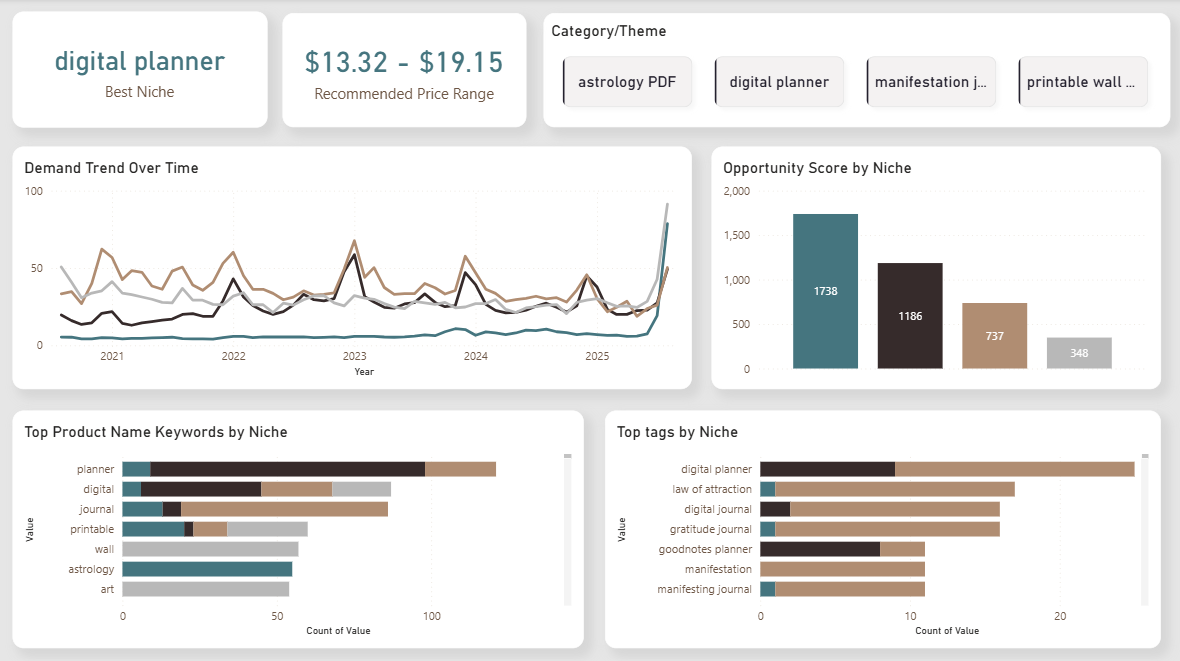

The page's visual inventory and layout, read from the dashboard file:
{"tool":"powerbi","page":{"name":"Final dashboard","canvas":[1280,720],"ordinal":0},"visuals":[{"type":"advancedSlicerVisual","fields":{"Values":["Main Etsy Data Table.Category/Theme"]},"box":[591.7,16.7,676.7,123.3],"z":0},{"type":"card","title":"Asrology PDF","fields":{"Values":["Google Trends Data Table.Top Opportunity Niche"]},"box":[18.3,15,275,125],"z":1000},{"type":"columnChart","title":"Opportunity Score by Niche","fields":{"Category":["Main Etsy Data Table.Category/Theme"],"Y":["Google Trends Data Table.Opportunity Score"],"Series":["Main Etsy Data Table.Category/Theme"]},"box":[771.7,160,485,261.7],"z":2000},{"type":"lineChart","title":"Demand Trend Over Time","fields":{"Y":["Avg(Google Trends Data Table.Interest over Time)"],"Series":["Google Trends Data Table.Search Term"],"Category":["Google Trends Data Table.Week.Variation.Date Hierarchy.Year","Google Trends Data Table.Week.Variation.Date Hierarchy.Month"]},"box":[18.3,160,733.3,261.7],"z":3000},{"type":"barChart","title":"Top Product Name Keywords by Niche","fields":{"Category":["Product name keywords table.Value"],"Y":["CountNonNull(Product name keywords table.Value)"],"Series":["Product name keywords table.Category/Theme"]},"box":[18.3,445,616.7,256.7],"z":4000},{"type":"barChart","title":"Top tags by Niche","fields":{"Y":["CountNonNull(tags table.Value)"],"Category":["tags table.Value"],"Series":["tags table.Category/Theme"]},"box":[656.7,445,600,256.7],"z":5000},{"type":"card","title":"Asrology PDF","fields":{"Values":["Google Trends Data Table.Price Range"]},"box":[310,16.7,263.3,123.3],"z":6000}]}

Visuals, with their boxes in screenshot pixels (x1, y1, x2, y2), scaled from the page's 1280x720 canvas onto the 1180x661 screenshot:
advancedSlicerVisual - Main Etsy Data Table.Category/Theme: x1=545, y1=15, x2=1169, y2=129
"Asrology PDF" card: x1=17, y1=14, x2=270, y2=129
"Opportunity Score by Niche" columnChart: x1=711, y1=147, x2=1159, y2=387
"Demand Trend Over Time" lineChart: x1=17, y1=147, x2=693, y2=387
"Top Product Name Keywords by Niche" barChart: x1=17, y1=409, x2=585, y2=644
"Top tags by Niche" barChart: x1=605, y1=409, x2=1159, y2=644
"Asrology PDF" card: x1=286, y1=15, x2=529, y2=129
